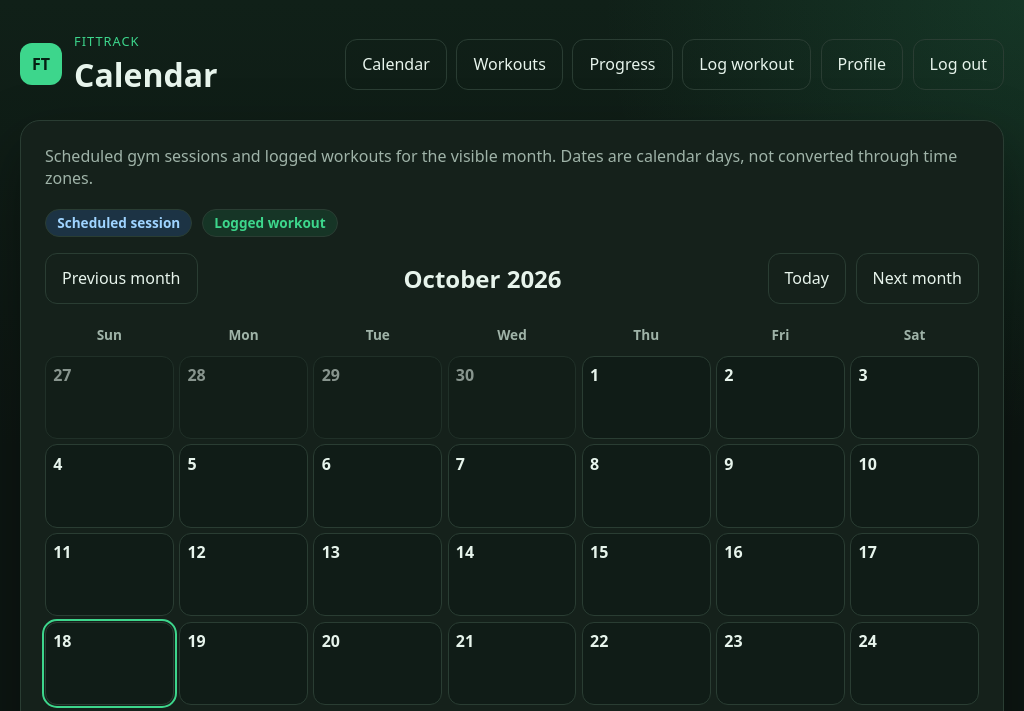
Scenario: S3 calendar, scheduling, and progress pages › moves between months with labeled controls
The width and height of the screenshot is (1024, 711).
Expected: the heading "October 2026" is shown, [403,262,562,295]
Click the button "Next month": [917, 278] box [856,253,979,304]
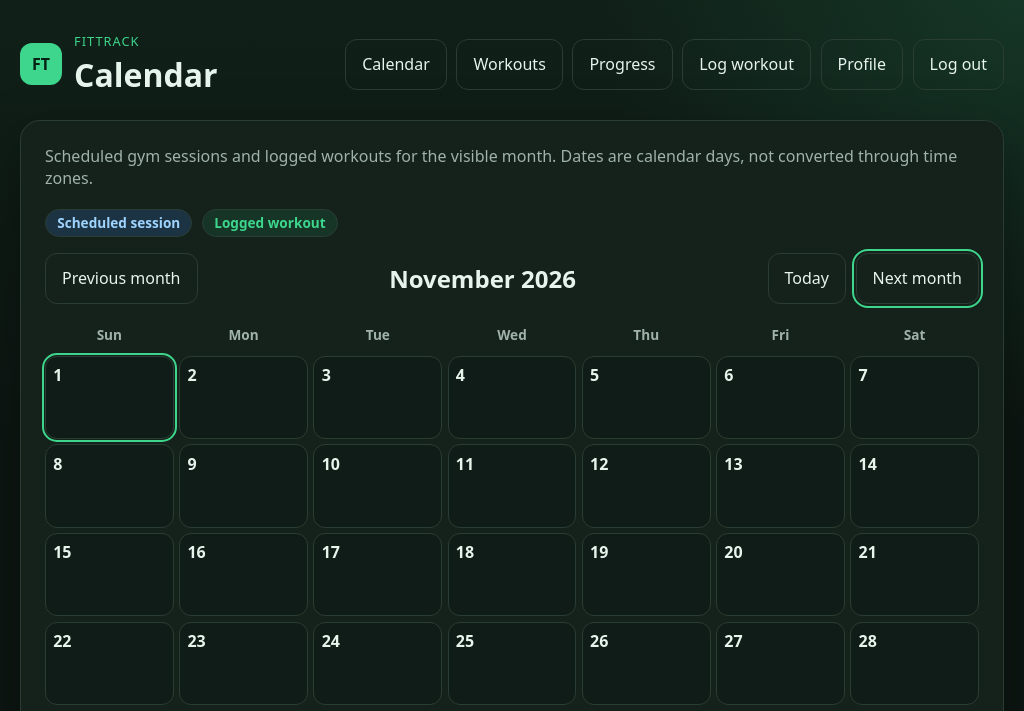
Now the heading "November 2026" is shown, box [389,262,576,295]
Click the button "Previous month": [121, 278] box [45,253,198,304]
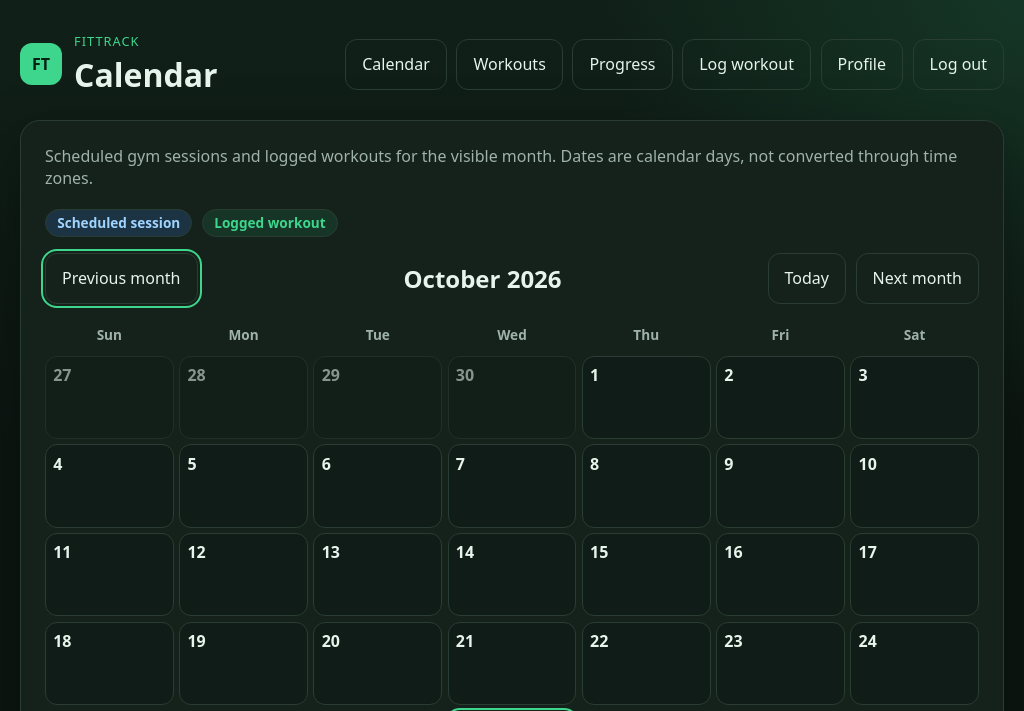
Now the heading "October 2026" is shown, box [403,262,562,295]
